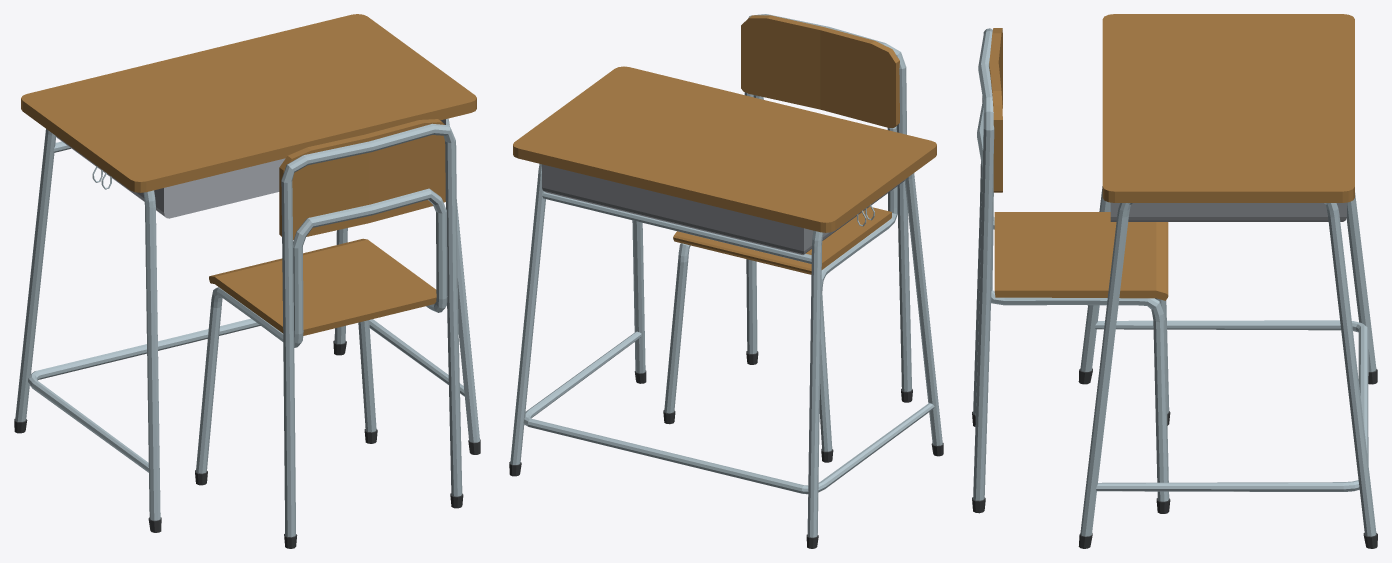
The model's file is classroom_chair.fbx.
3 views of the same model, side by side, from view 1: azimuth 30°, elevation 25°; view 2: azimuth 150°, elevation 25°; view 3: azimuth 270°, elevation 25° (orthographic). The views are drawn at different scales.
Visible parts, largest first — view 1: desk, chair; view 2: desk, chair; view 3: desk, chair.
Boxes of the visible parts, x1,y1,x2,y2 form: desk: (14,14,480,532); chair: (195,119,463,548); desk: (509,66,943,548); chair: (663,14,912,462); desk: (1078,14,1377,548); chair: (972,28,1170,513).
Bounding box in the file's own units: 142 × 151 × 137.
